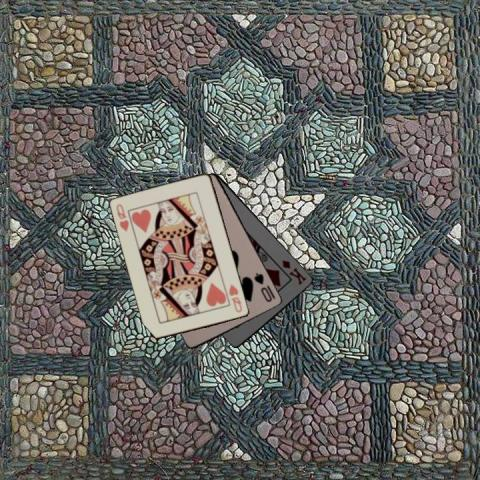10s: (252, 270, 274, 303)
Kd: (279, 257, 308, 286)
Qh: (226, 281, 244, 314), (113, 201, 131, 233)
